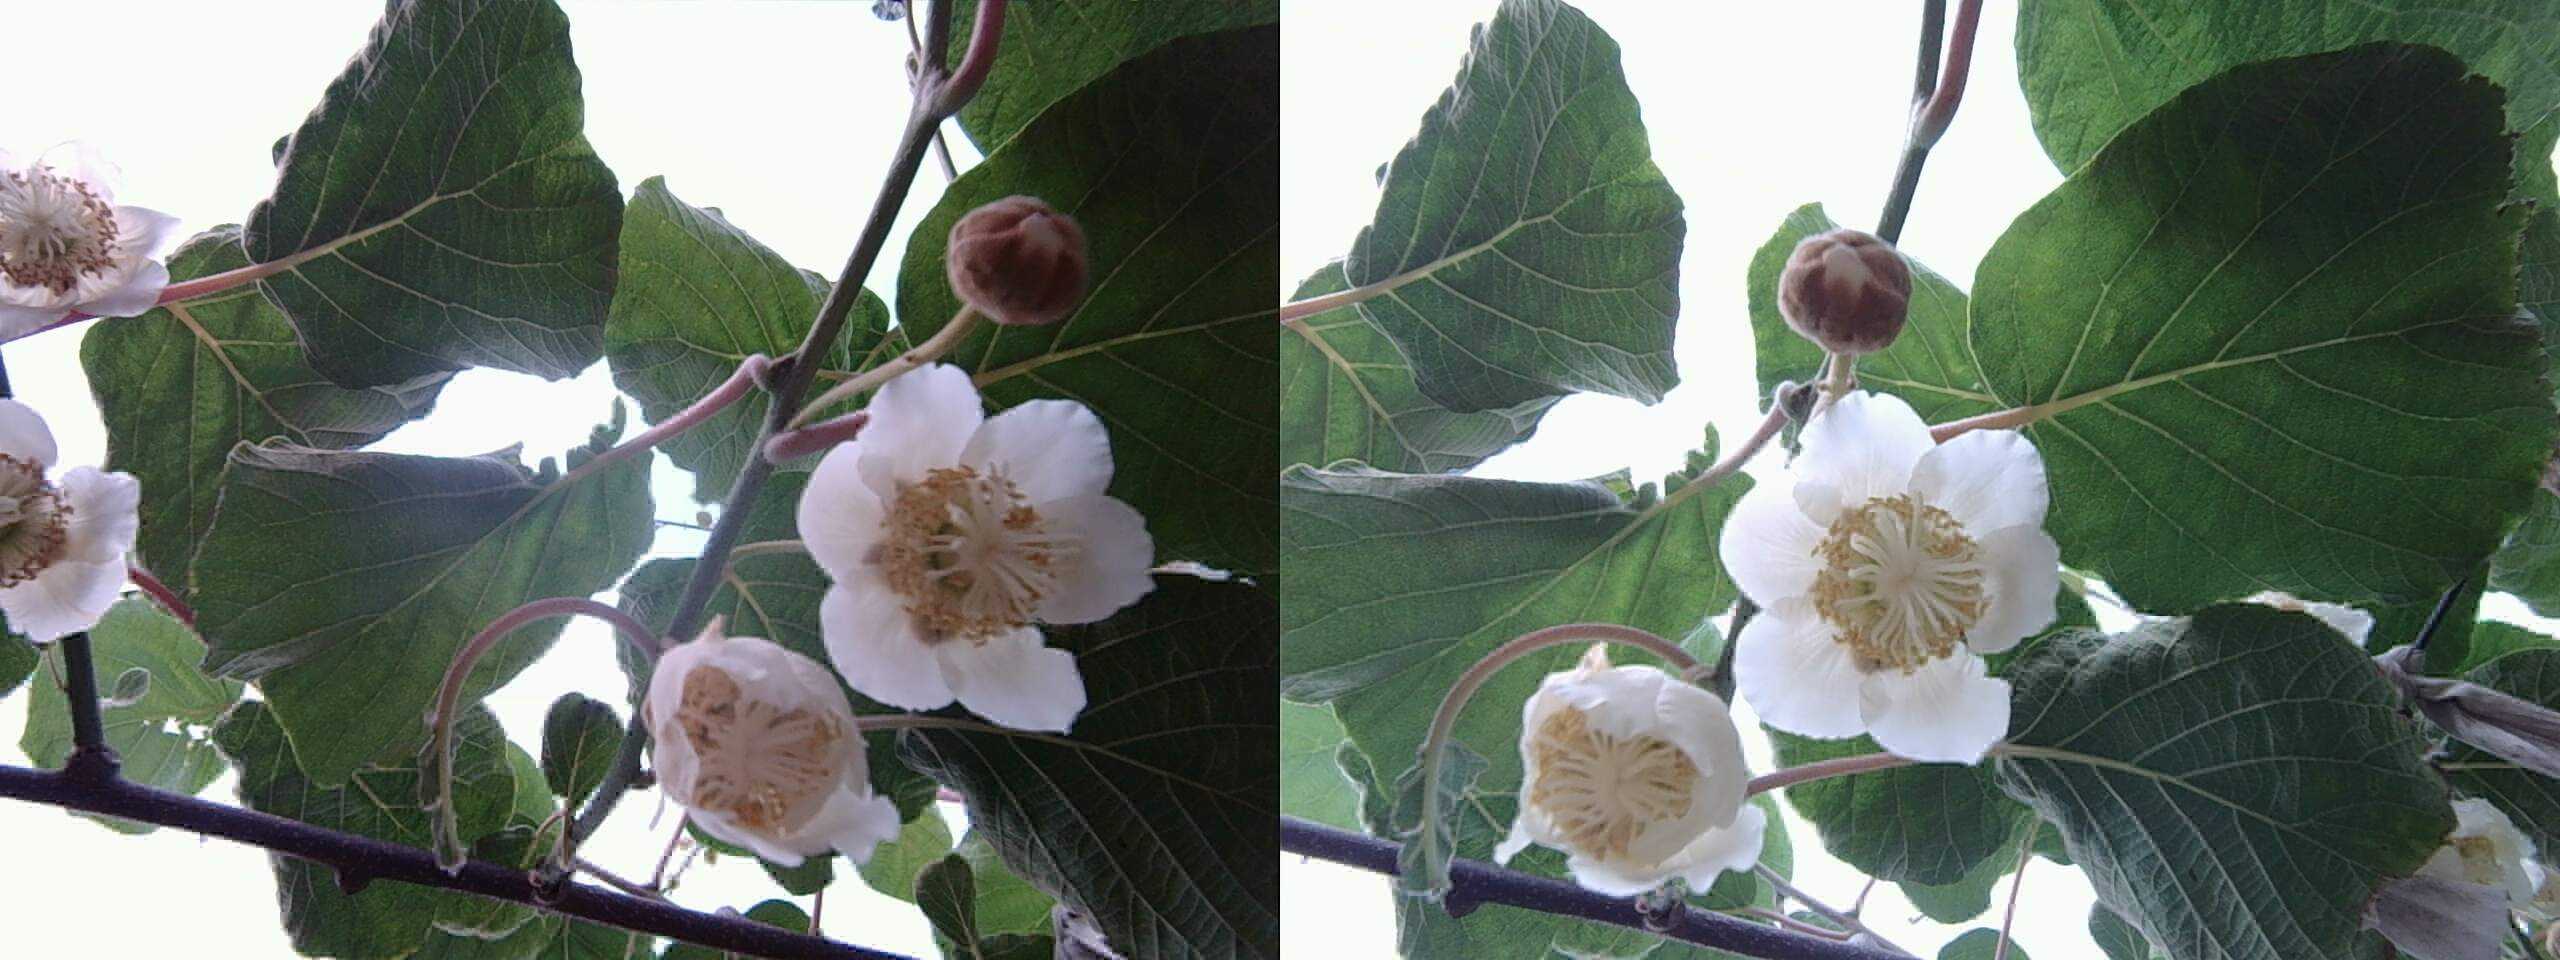flower: (810, 380, 1130, 712), (1734, 411, 2049, 746), (1502, 655, 1753, 898), (642, 627, 883, 869), (0, 413, 137, 638), (0, 142, 167, 313), (1776, 220, 1910, 359)
